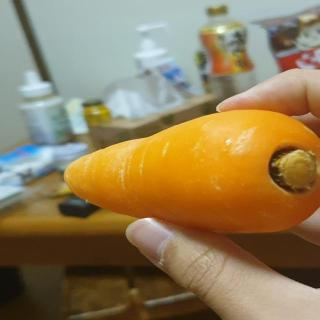carrot: (58, 104, 320, 238)
